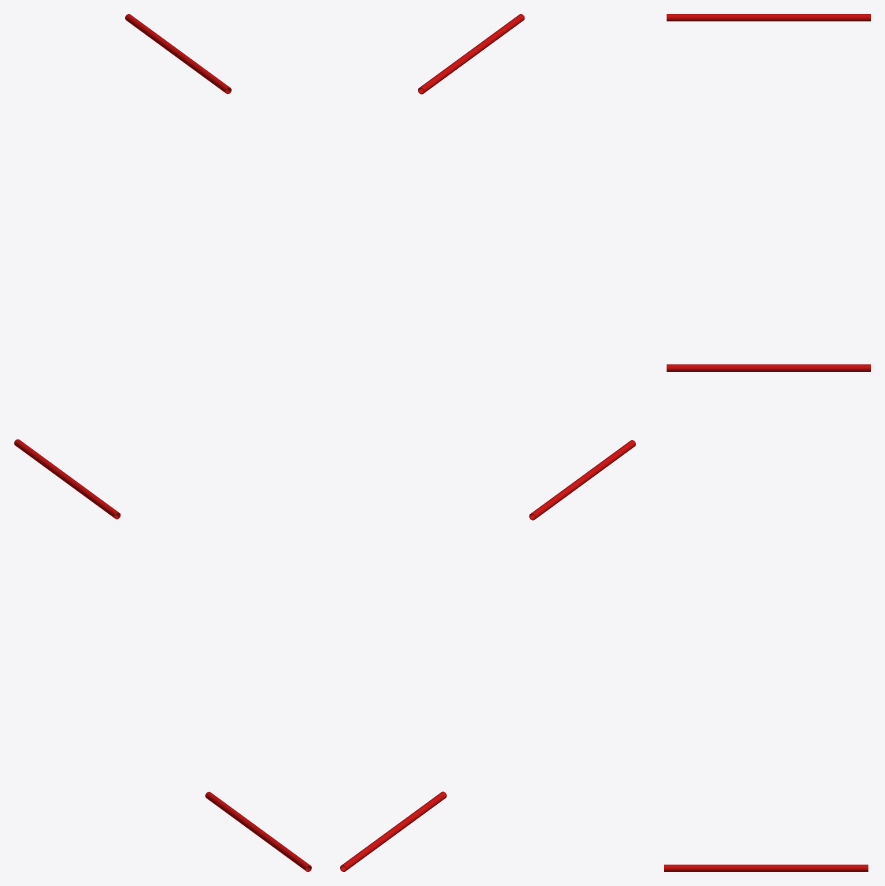
The model's file is Task02_Slalom_red.obj.
3 renders of one model, left to right at view 1: azimuth 30°, elevation 25°; view 2: azimuth 150°, elevation 25°; view 3: azimuth 270°, elevation 25°, orthographic.
Visible parts, largest first — view 1: row2_pipe_centre, row3_pipe_centre, row1_pipe_centre; view 2: row1_pipe_centre, row2_pipe_centre, row3_pipe_centre; view 3: row2_pipe_centre, row1_pipe_centre, row3_pipe_centre.
Boxes of the visible parts, x1,y1,x2,y2 form: row2_pipe_centre: (14,439,120,519); row3_pipe_centre: (205,791,311,871); row1_pipe_centre: (125,14,231,93); row1_pipe_centre: (418,14,524,94); row2_pipe_centre: (529,440,635,520); row3_pipe_centre: (340,791,446,871); row2_pipe_centre: (666,364,870,371); row1_pipe_centre: (666,14,870,21); row3_pipe_centre: (664,864,868,871).
Bounding box in the file's own units: 1.03 × 4.04 × 0.9255.
